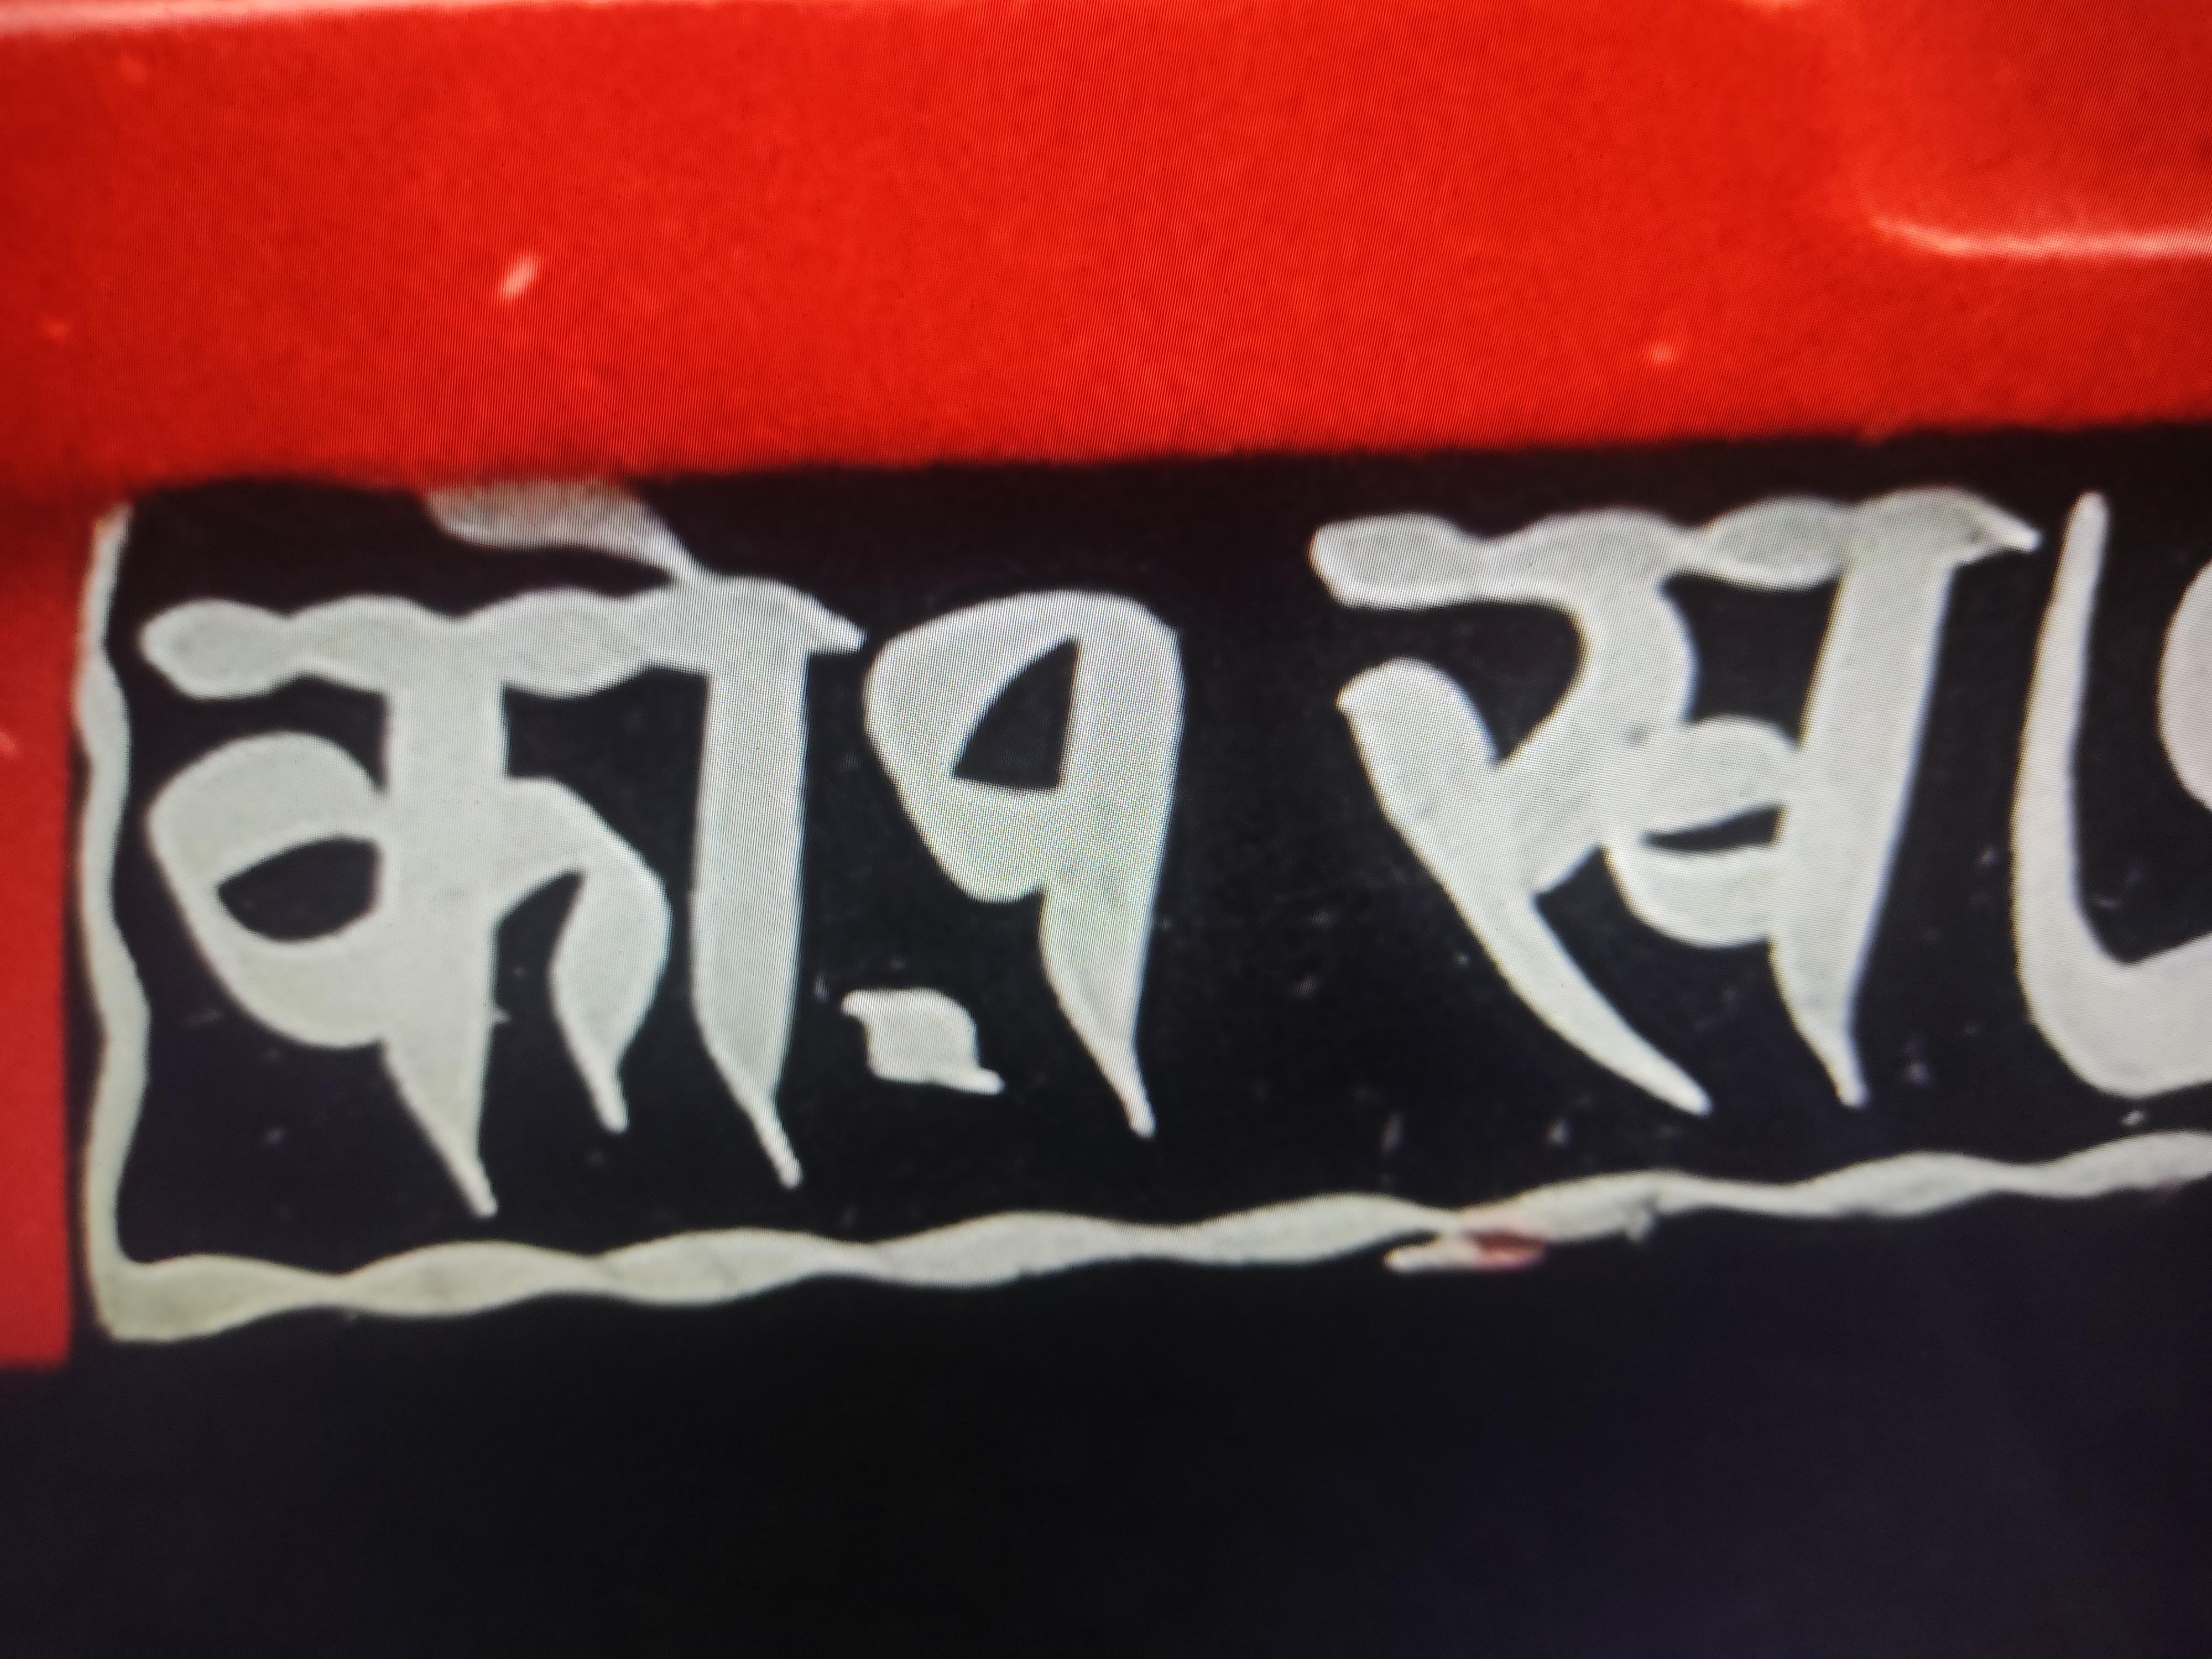1: (838, 562, 1245, 1253)
kha: (1292, 507, 1995, 1137)
ko: (86, 448, 839, 1201)
